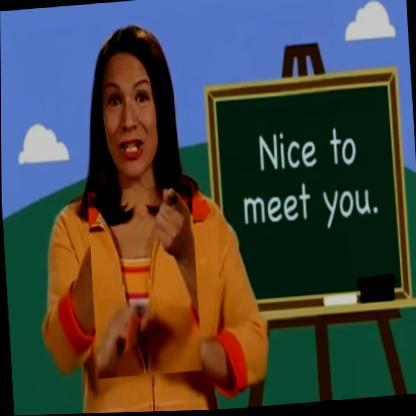NiceToMeetYou: (86, 184, 201, 379)
